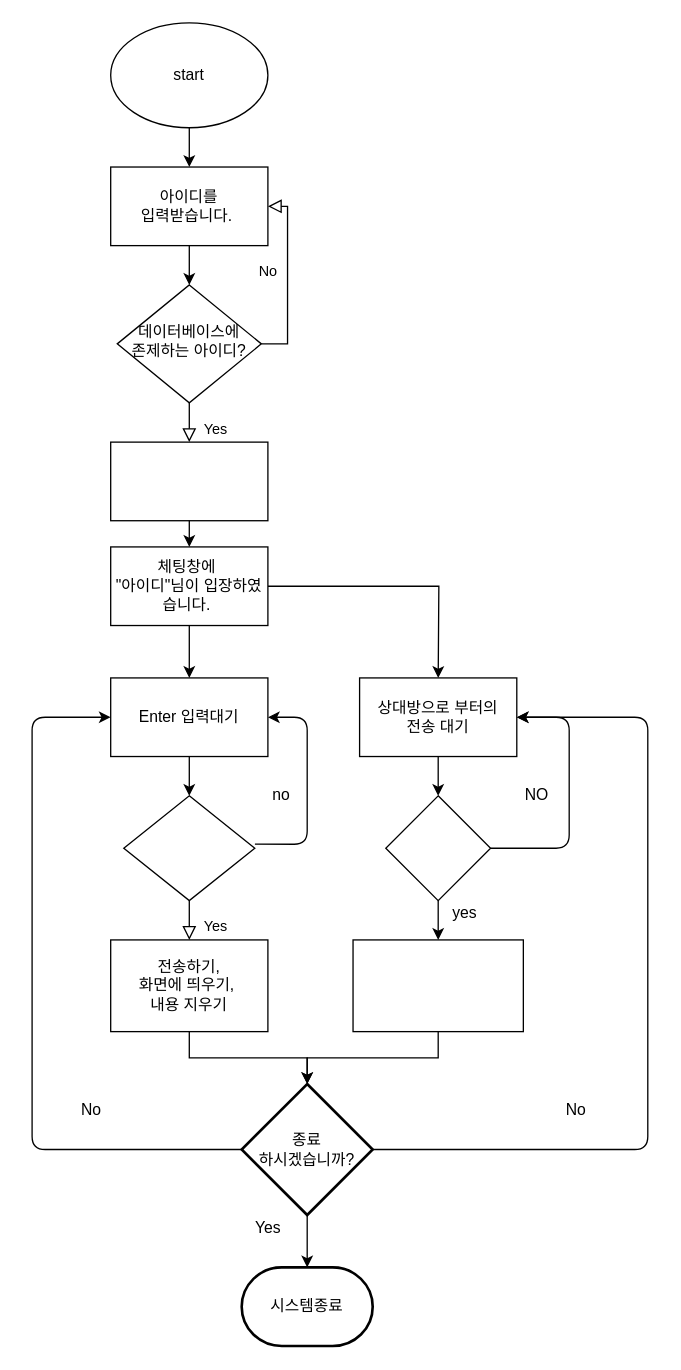
The diagram is 681 pixels wide and 1370 high, and some of its shapes have lost their labels. The shapes that lost their labels are listed below. From the top down, each one's centre as x and y in pixels, then its label:
point 188,481: GUI 실행
point 188,848: 안에 내용이 있는가?
point 437,848: 수신 있음?
point 437,985: 수신하여 화면에 띄우기
